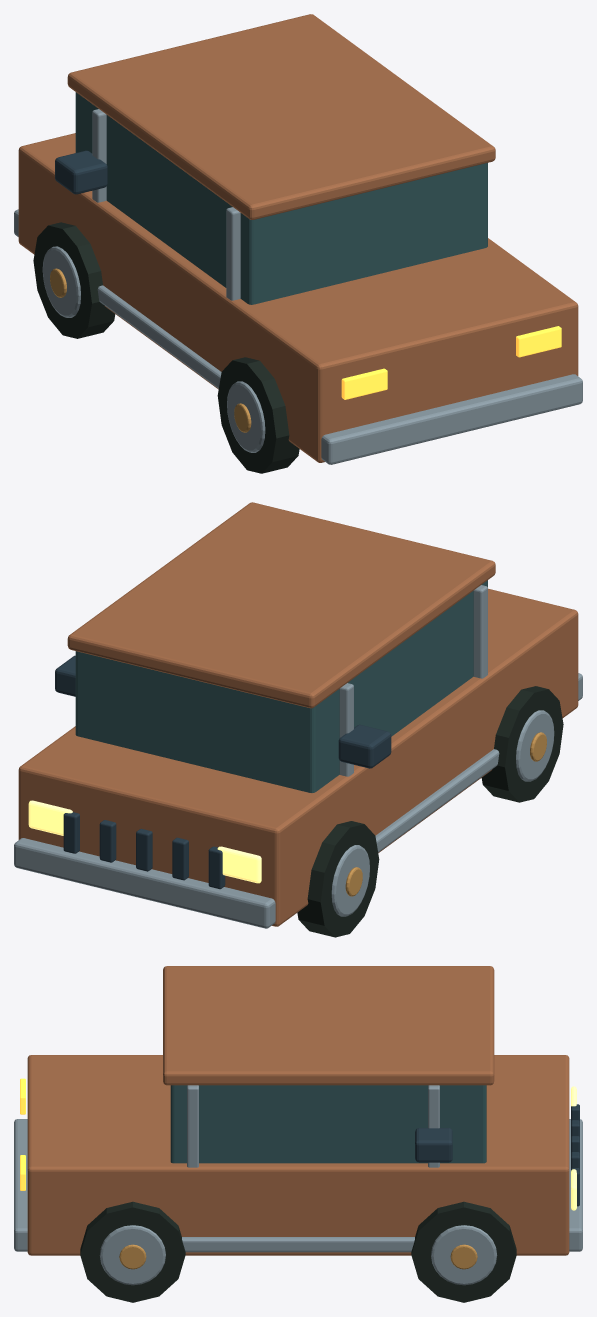
The model's file is compact_car.glb.
3 renders of one model, top to bottom at view 1: azimuth 30°, elevation 25°; view 2: azimuth 150°, elevation 25°; view 3: azimuth 270°, elevation 25°, orthographic. The views are drawn at different scales.
Parts seen in each view (by area): view 1: Axle cap.008; view 2: Axle cap.008; view 3: Axle cap.008.
Part boxes in pixels (x1,y1,x2,y2): Axle cap.008: (14,14,582,473); Axle cap.008: (14,502,582,937); Axle cap.008: (14,966,582,1302).
Bounding box in the file's own units: 2.2 × 1.62 × 3.78.
